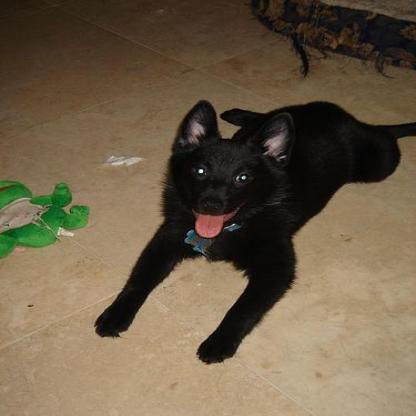schipperke: (87, 95, 412, 366)
